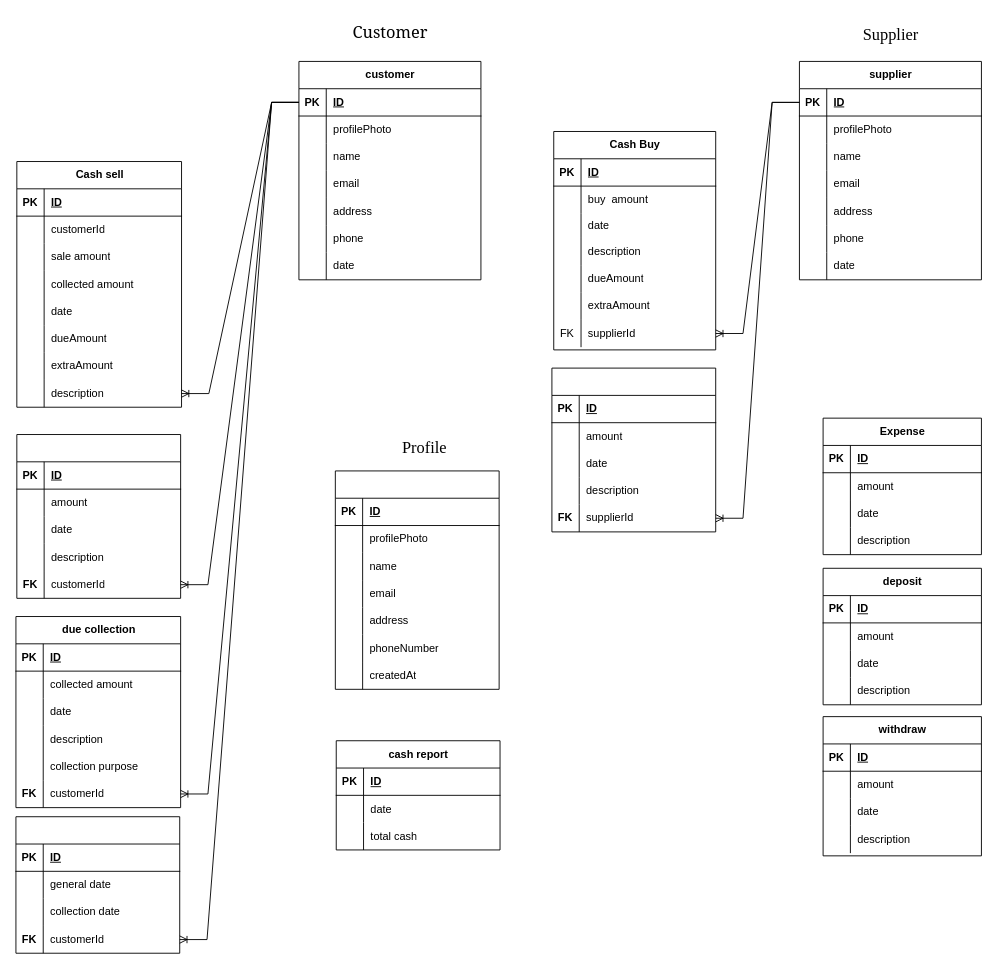
Some shapes in this 997 by 969 pixel diagram are drawn without their labels. The shapes that lost their labels are listed below. From the top down, each one's box as (x1, y1, x2, y2) in pixels, then its label:
(551, 367, 716, 532): give gave
(16, 434, 181, 598): lend
(334, 470, 499, 689): owner profile
(15, 816, 180, 953): Collection Reminder
